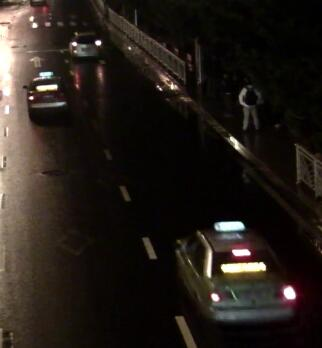car: (174, 220, 299, 329), (21, 69, 68, 118), (67, 30, 104, 57)
